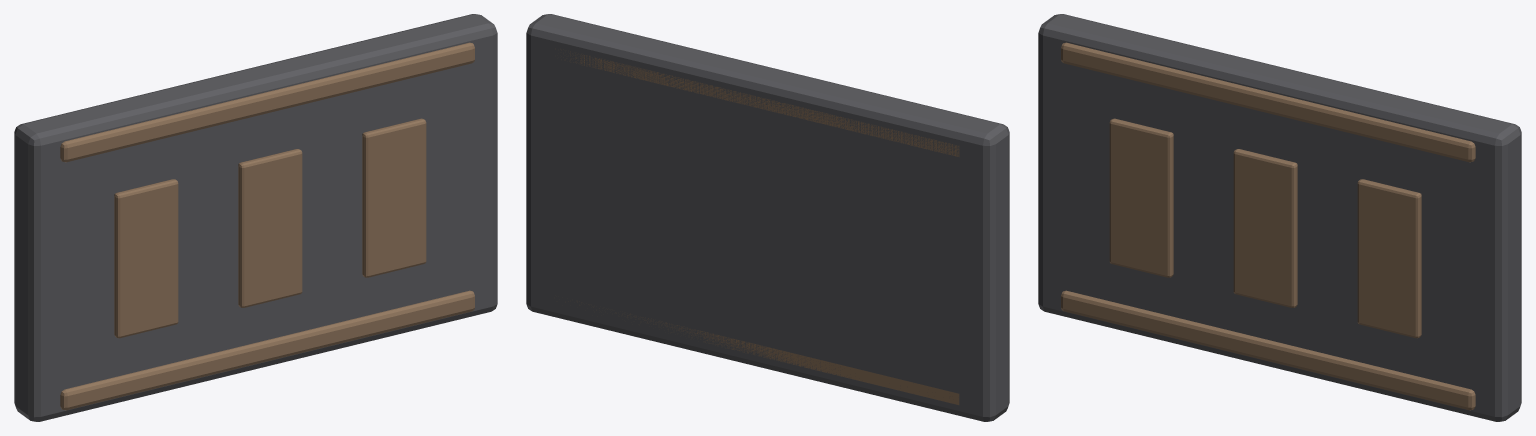
3 renders of one model, left to right at view 1: azimuth 30°, elevation 25°; view 2: azimuth 150°, elevation 25°; view 3: azimuth 330°, elevation 25°, orthographic.
Parts seen in each view (by area): view 1: doorPlaque; view 2: doorPlaque; view 3: doorPlaque.
Boxes of the visible parts, x1,y1,x2,y2 form: doorPlaque: (14, 14, 497, 421); doorPlaque: (526, 14, 1009, 421); doorPlaque: (1038, 14, 1521, 421).
Size of the model in its own units: 0.34 by 0.2 by 0.035.
